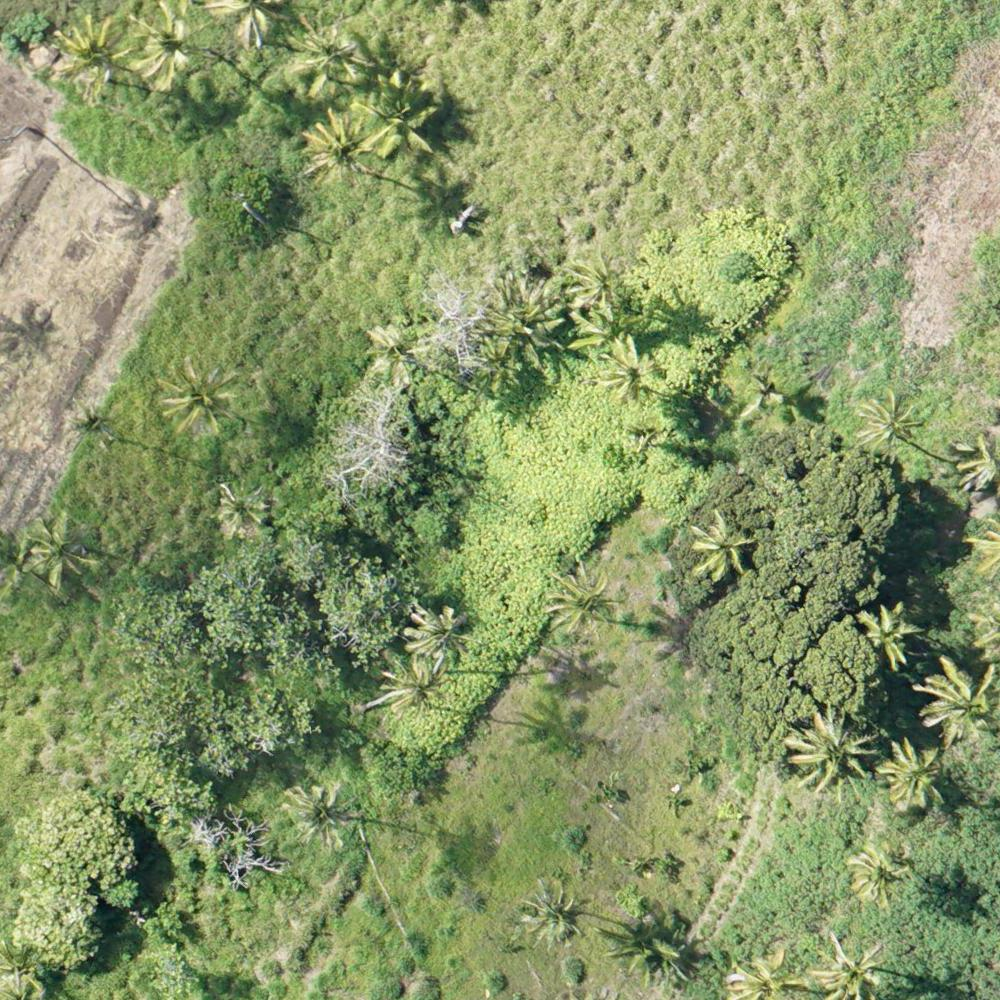Palm: (788, 712, 870, 795), (918, 657, 1000, 738), (159, 358, 238, 441), (52, 22, 129, 106), (126, 6, 197, 88), (547, 566, 625, 638), (289, 19, 364, 93), (363, 77, 435, 152), (843, 835, 917, 906), (302, 106, 370, 182), (26, 516, 97, 586), (876, 743, 945, 815), (285, 783, 357, 850), (592, 341, 665, 406), (855, 392, 928, 457), (815, 936, 888, 1000), (381, 661, 452, 724), (692, 509, 755, 578), (520, 880, 587, 944), (858, 601, 921, 666), (568, 255, 629, 322), (408, 607, 472, 667), (364, 329, 425, 391), (62, 395, 121, 450), (215, 478, 268, 534)
